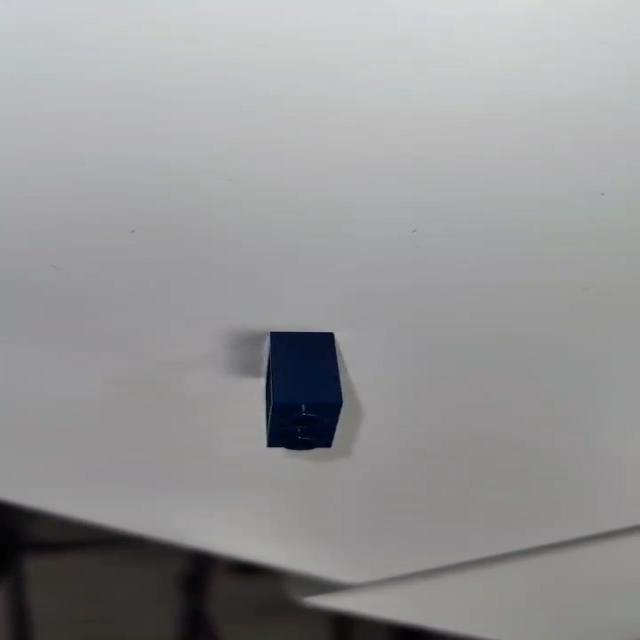W2x1x2: (249, 326, 348, 454)
